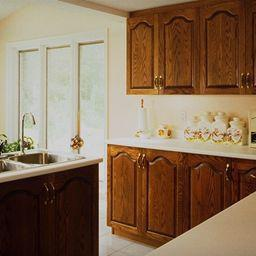Lavaplatos: (8, 106, 84, 171)
